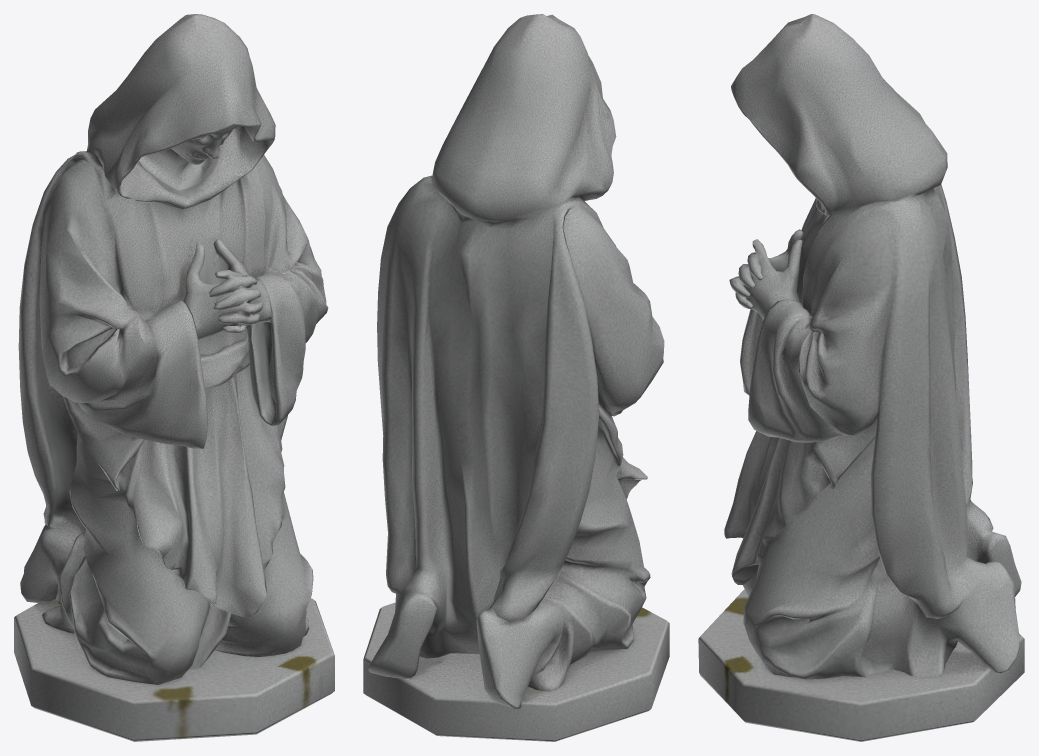
File: KneelingShrine.glb
The picture shows the model from 3 angles, left to right: view 1: azimuth 30°, elevation 25°; view 2: azimuth 150°, elevation 25°; view 3: azimuth 270°, elevation 25°; orthographic projection. The views are drawn at different scales.
Size of the model in its own units: 0.418 by 0.9517 by 0.4263.
Materials: 1 (1 with a texture image).
